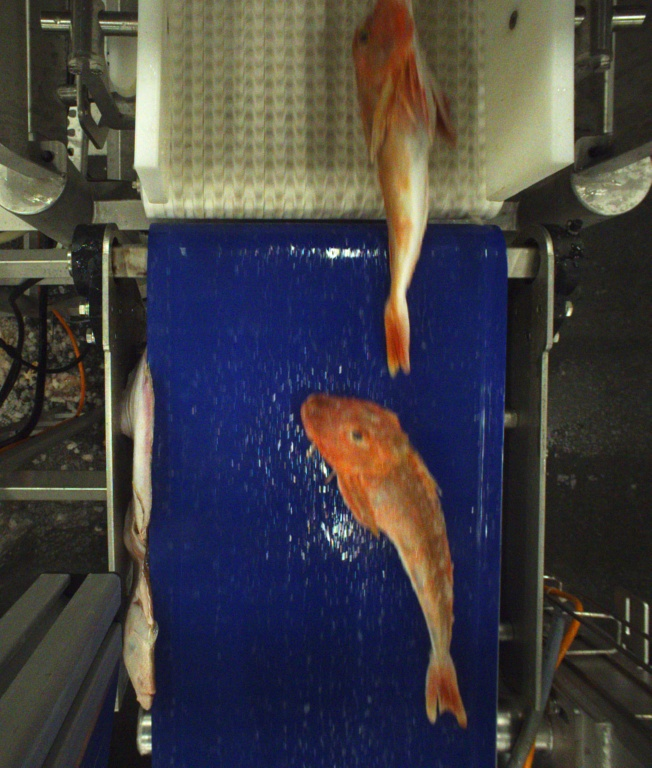GUU: (353, 0, 456, 378)
